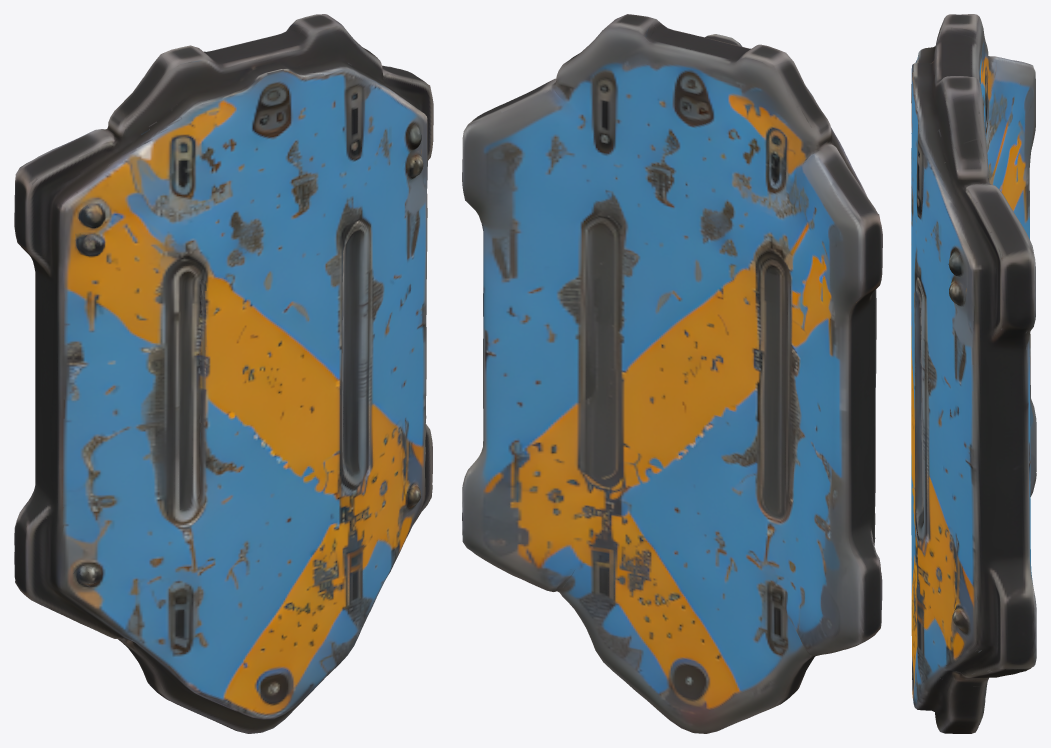
Rendered from base_basic_shaded.fbx.
3 renders of one model, left to right at view 1: azimuth 30°, elevation 25°; view 2: azimuth 150°, elevation 25°; view 3: azimuth 270°, elevation 25°, orthographic.
Visible parts, largest first — view 1: model; view 2: model; view 3: model.
Boxes of the visible parts, left/top/right/bottom form: model: left=14, top=14, right=433, bottom=733; model: left=462, top=14, right=882, bottom=733; model: left=911, top=14, right=1036, bottom=733.
Bounding box in the file's own units: 117 × 191 × 31.84.
